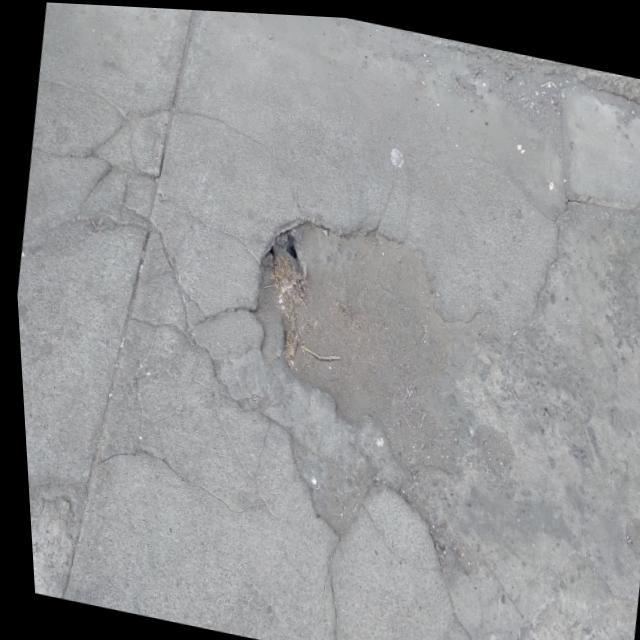hole: (226, 195, 464, 452)
